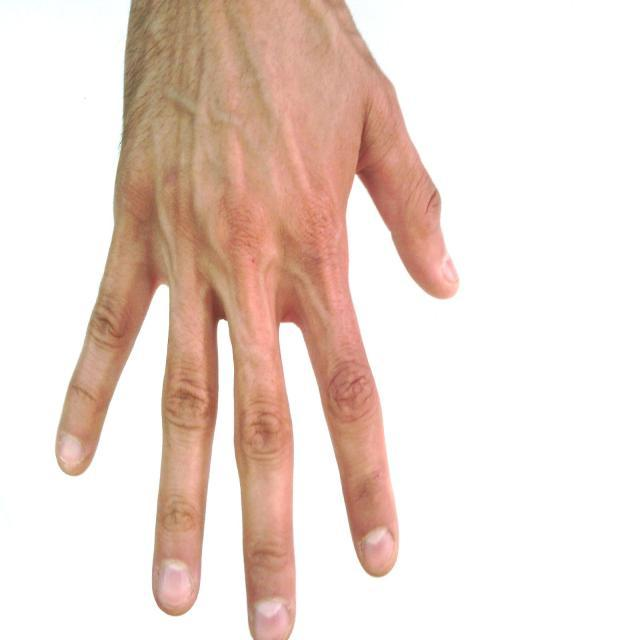Fingernail: (362, 529, 393, 572), (254, 601, 289, 639), (160, 565, 191, 607), (60, 436, 83, 465), (444, 256, 459, 283)
